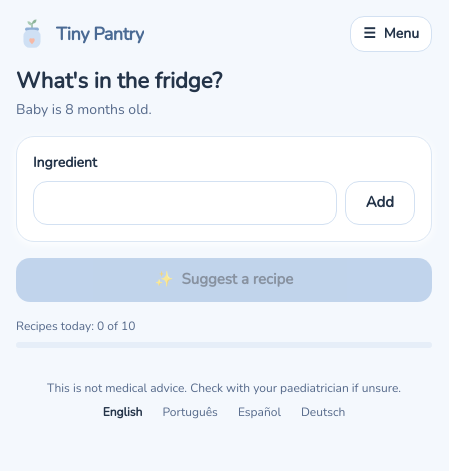
Scenario: when the translation fails the English recipe shows and no error does
Click the button "☰ Menu" at (391, 34), box [350,16,432,52]
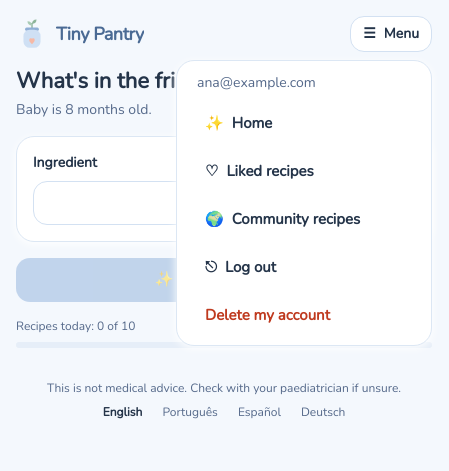
Click the button "♡ Liked recipes" at (304, 171), box [185,149,423,193]
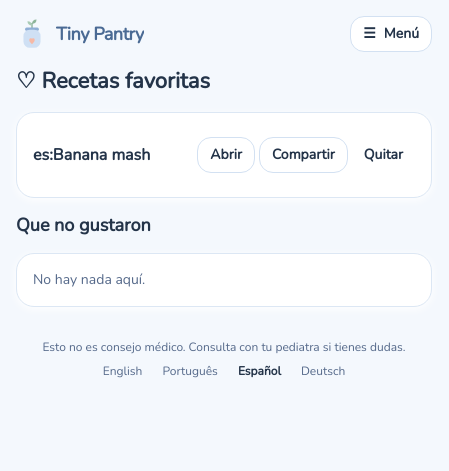
Click the button "Abrir" at (226, 154), box [197,136,255,172]
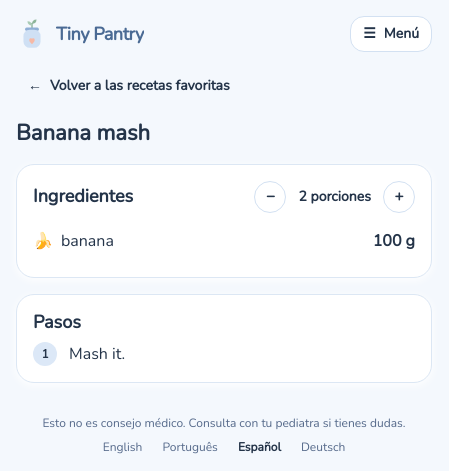
Now the heading "Banana mash" is shown, box [16,118,150,148]
Now the text "Mash it." is shown, box [69,342,125,366]
